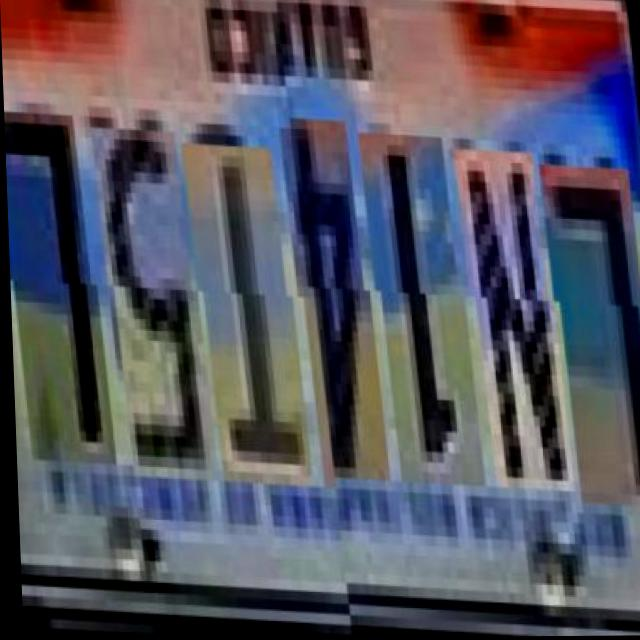1: (365, 137, 479, 490)
4: (286, 123, 384, 486)
5: (97, 124, 211, 477)
l: (3, 110, 110, 463), (546, 166, 640, 511)
n: (461, 152, 567, 494)
t: (187, 139, 306, 483)
